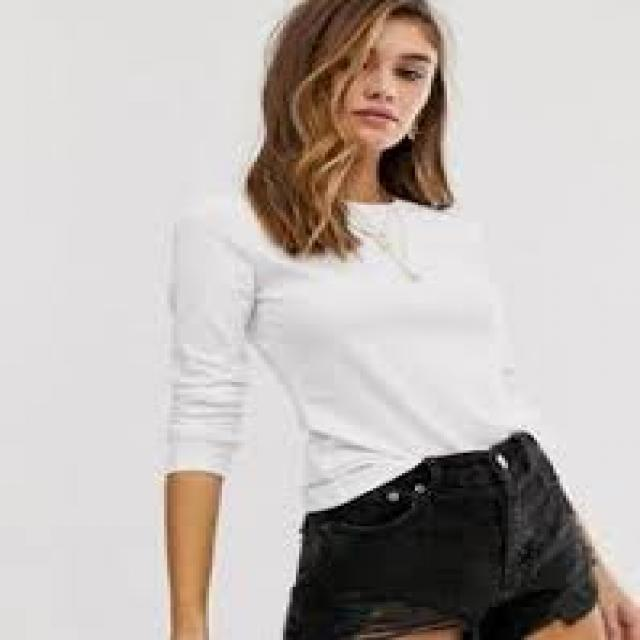plain: (144, 186, 583, 500)
